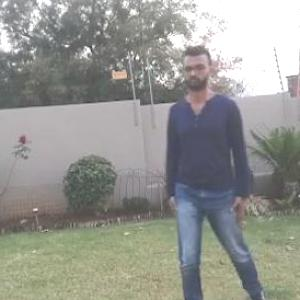follow: (158, 46, 244, 299)
